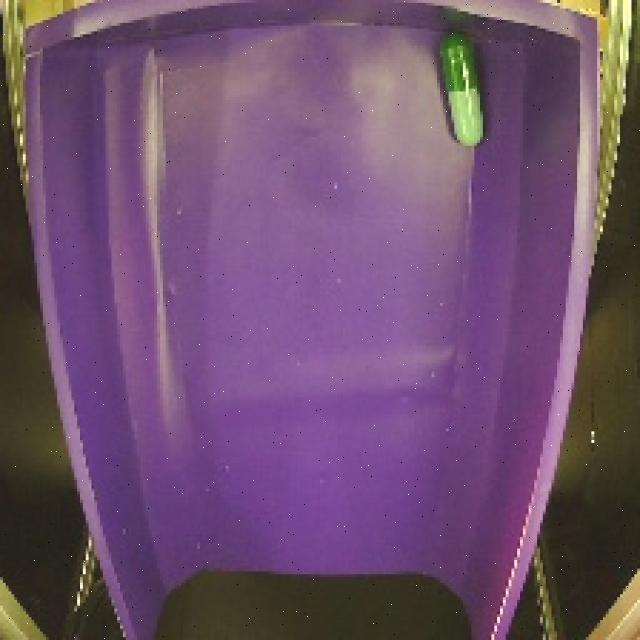small: (423, 29, 494, 153)
